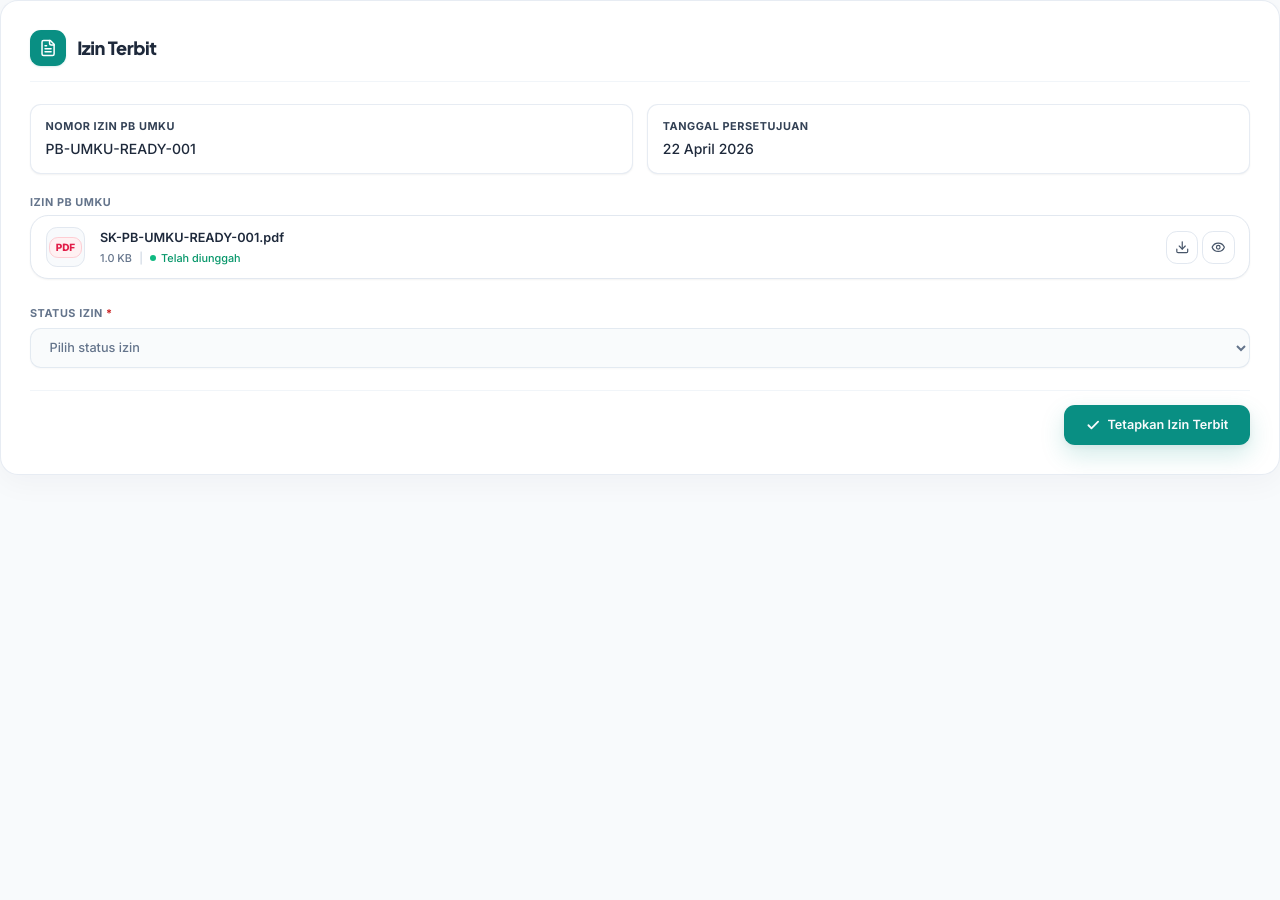
Test: session flow › opens izin terbit confirmation even when status is saved and submitted immediately
Select "Aktif" in the dropdown. click: [640, 348]
box: [30,328,1250,368]
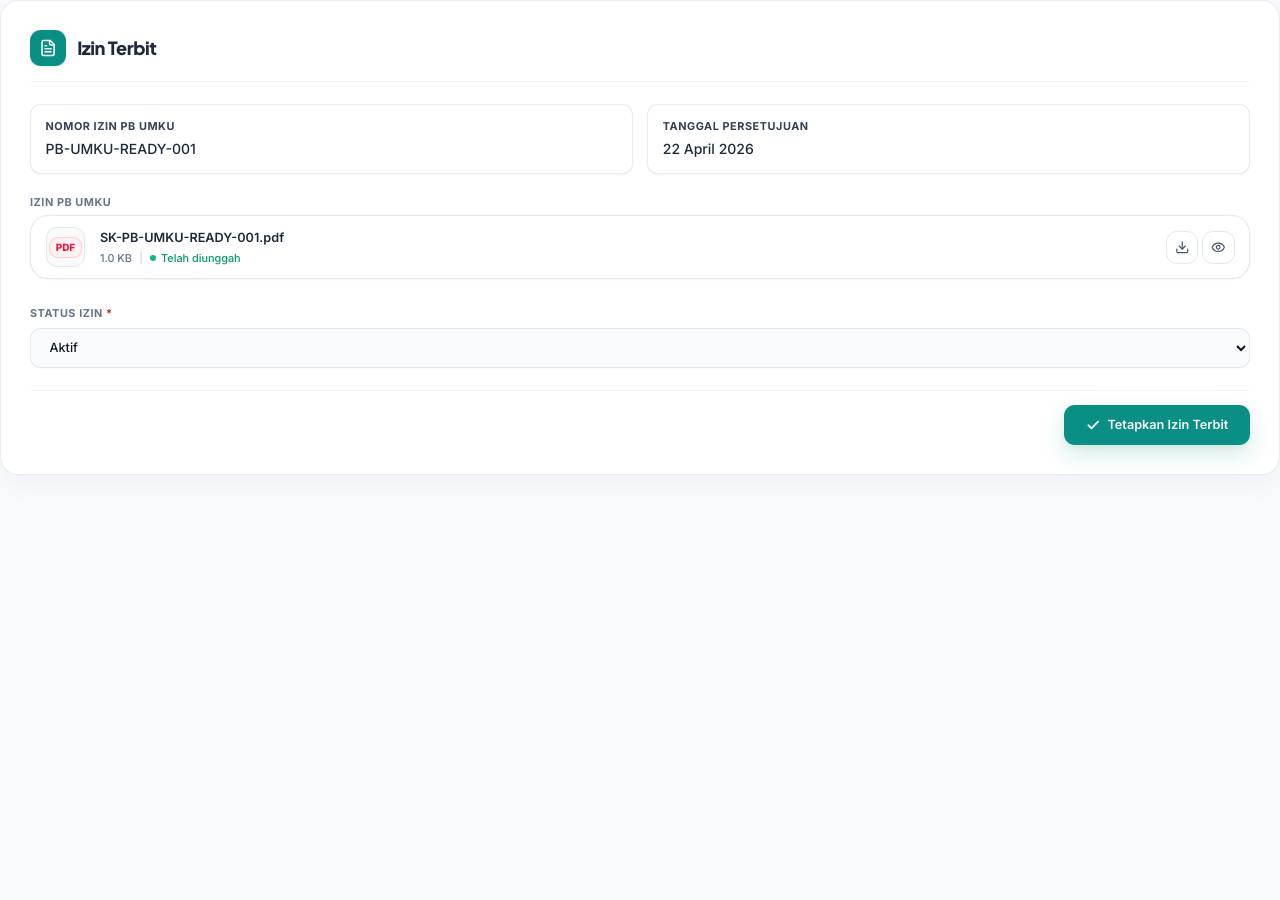
Click the button "Tetapkan Izin Terbit". click: [1157, 425]
box: [1064,405,1250,445]
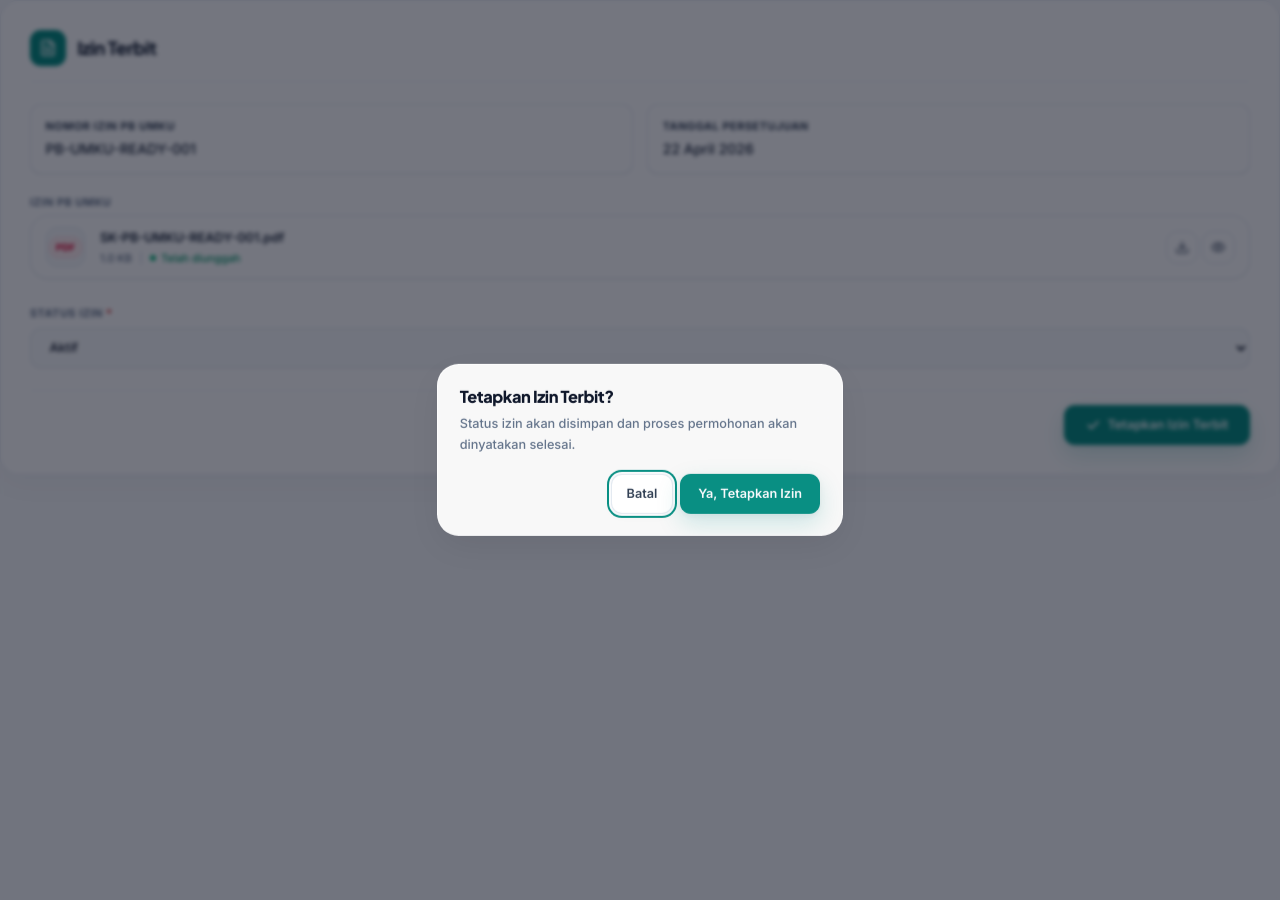
Now the heading "Tetapkan Izin Terbit?" is shown, box [460,386,614,407]
